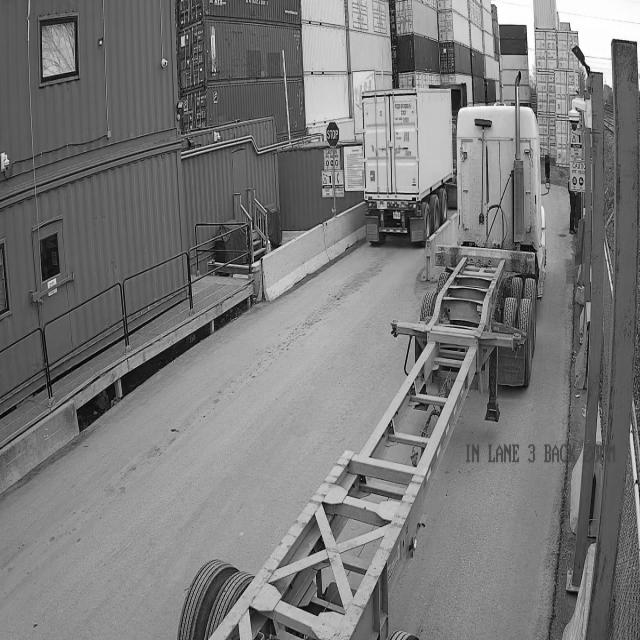truck_with_container: (364, 88, 454, 242)
truck_without_container: (178, 96, 550, 639)
